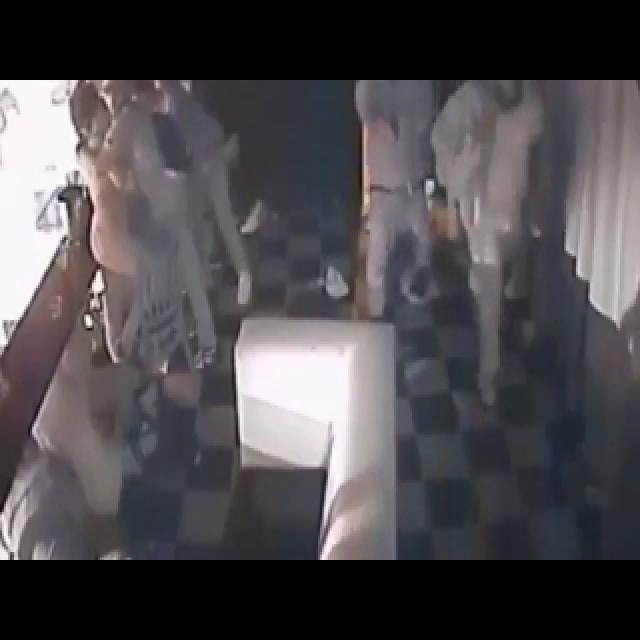shooting: (20, 66, 299, 360), (366, 63, 532, 301), (417, 251, 534, 304)
